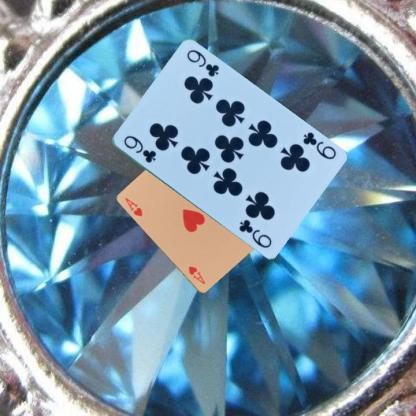9c: (120, 133, 157, 165), (300, 129, 337, 161)
Ah: (122, 195, 144, 218)
